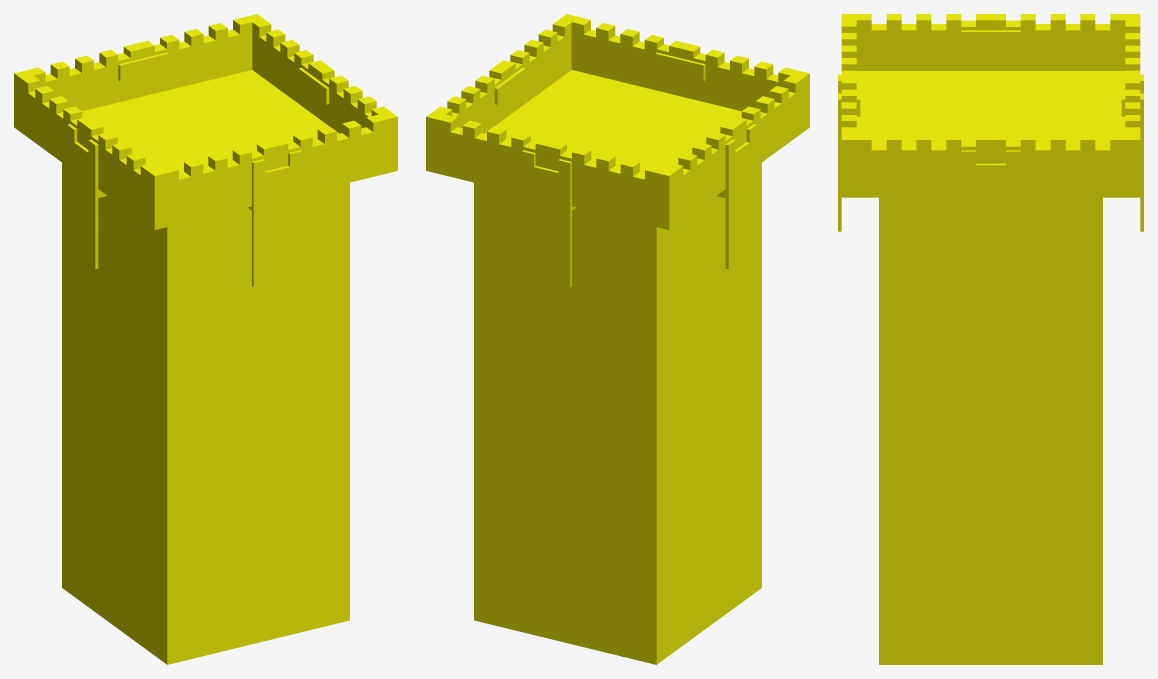
The model's file is voxel-knights-tower.glb.
3 renders of one model, left to right at view 1: azimuth 30°, elevation 25°; view 2: azimuth 150°, elevation 25°; view 3: azimuth 270°, elevation 25°, orthographic. The views are drawn at different scales.
Visible parts, largest first — view 1: ObjObject.001; view 2: ObjObject.001; view 3: ObjObject.001.
Boxes of the visible parts, x1,y1,x2,y2 form: ObjObject.001: (14, 14, 397, 664); ObjObject.001: (426, 14, 809, 664); ObjObject.001: (838, 14, 1143, 664).
Bounding box in the file's own units: 8.2 × 16 × 8.2.
